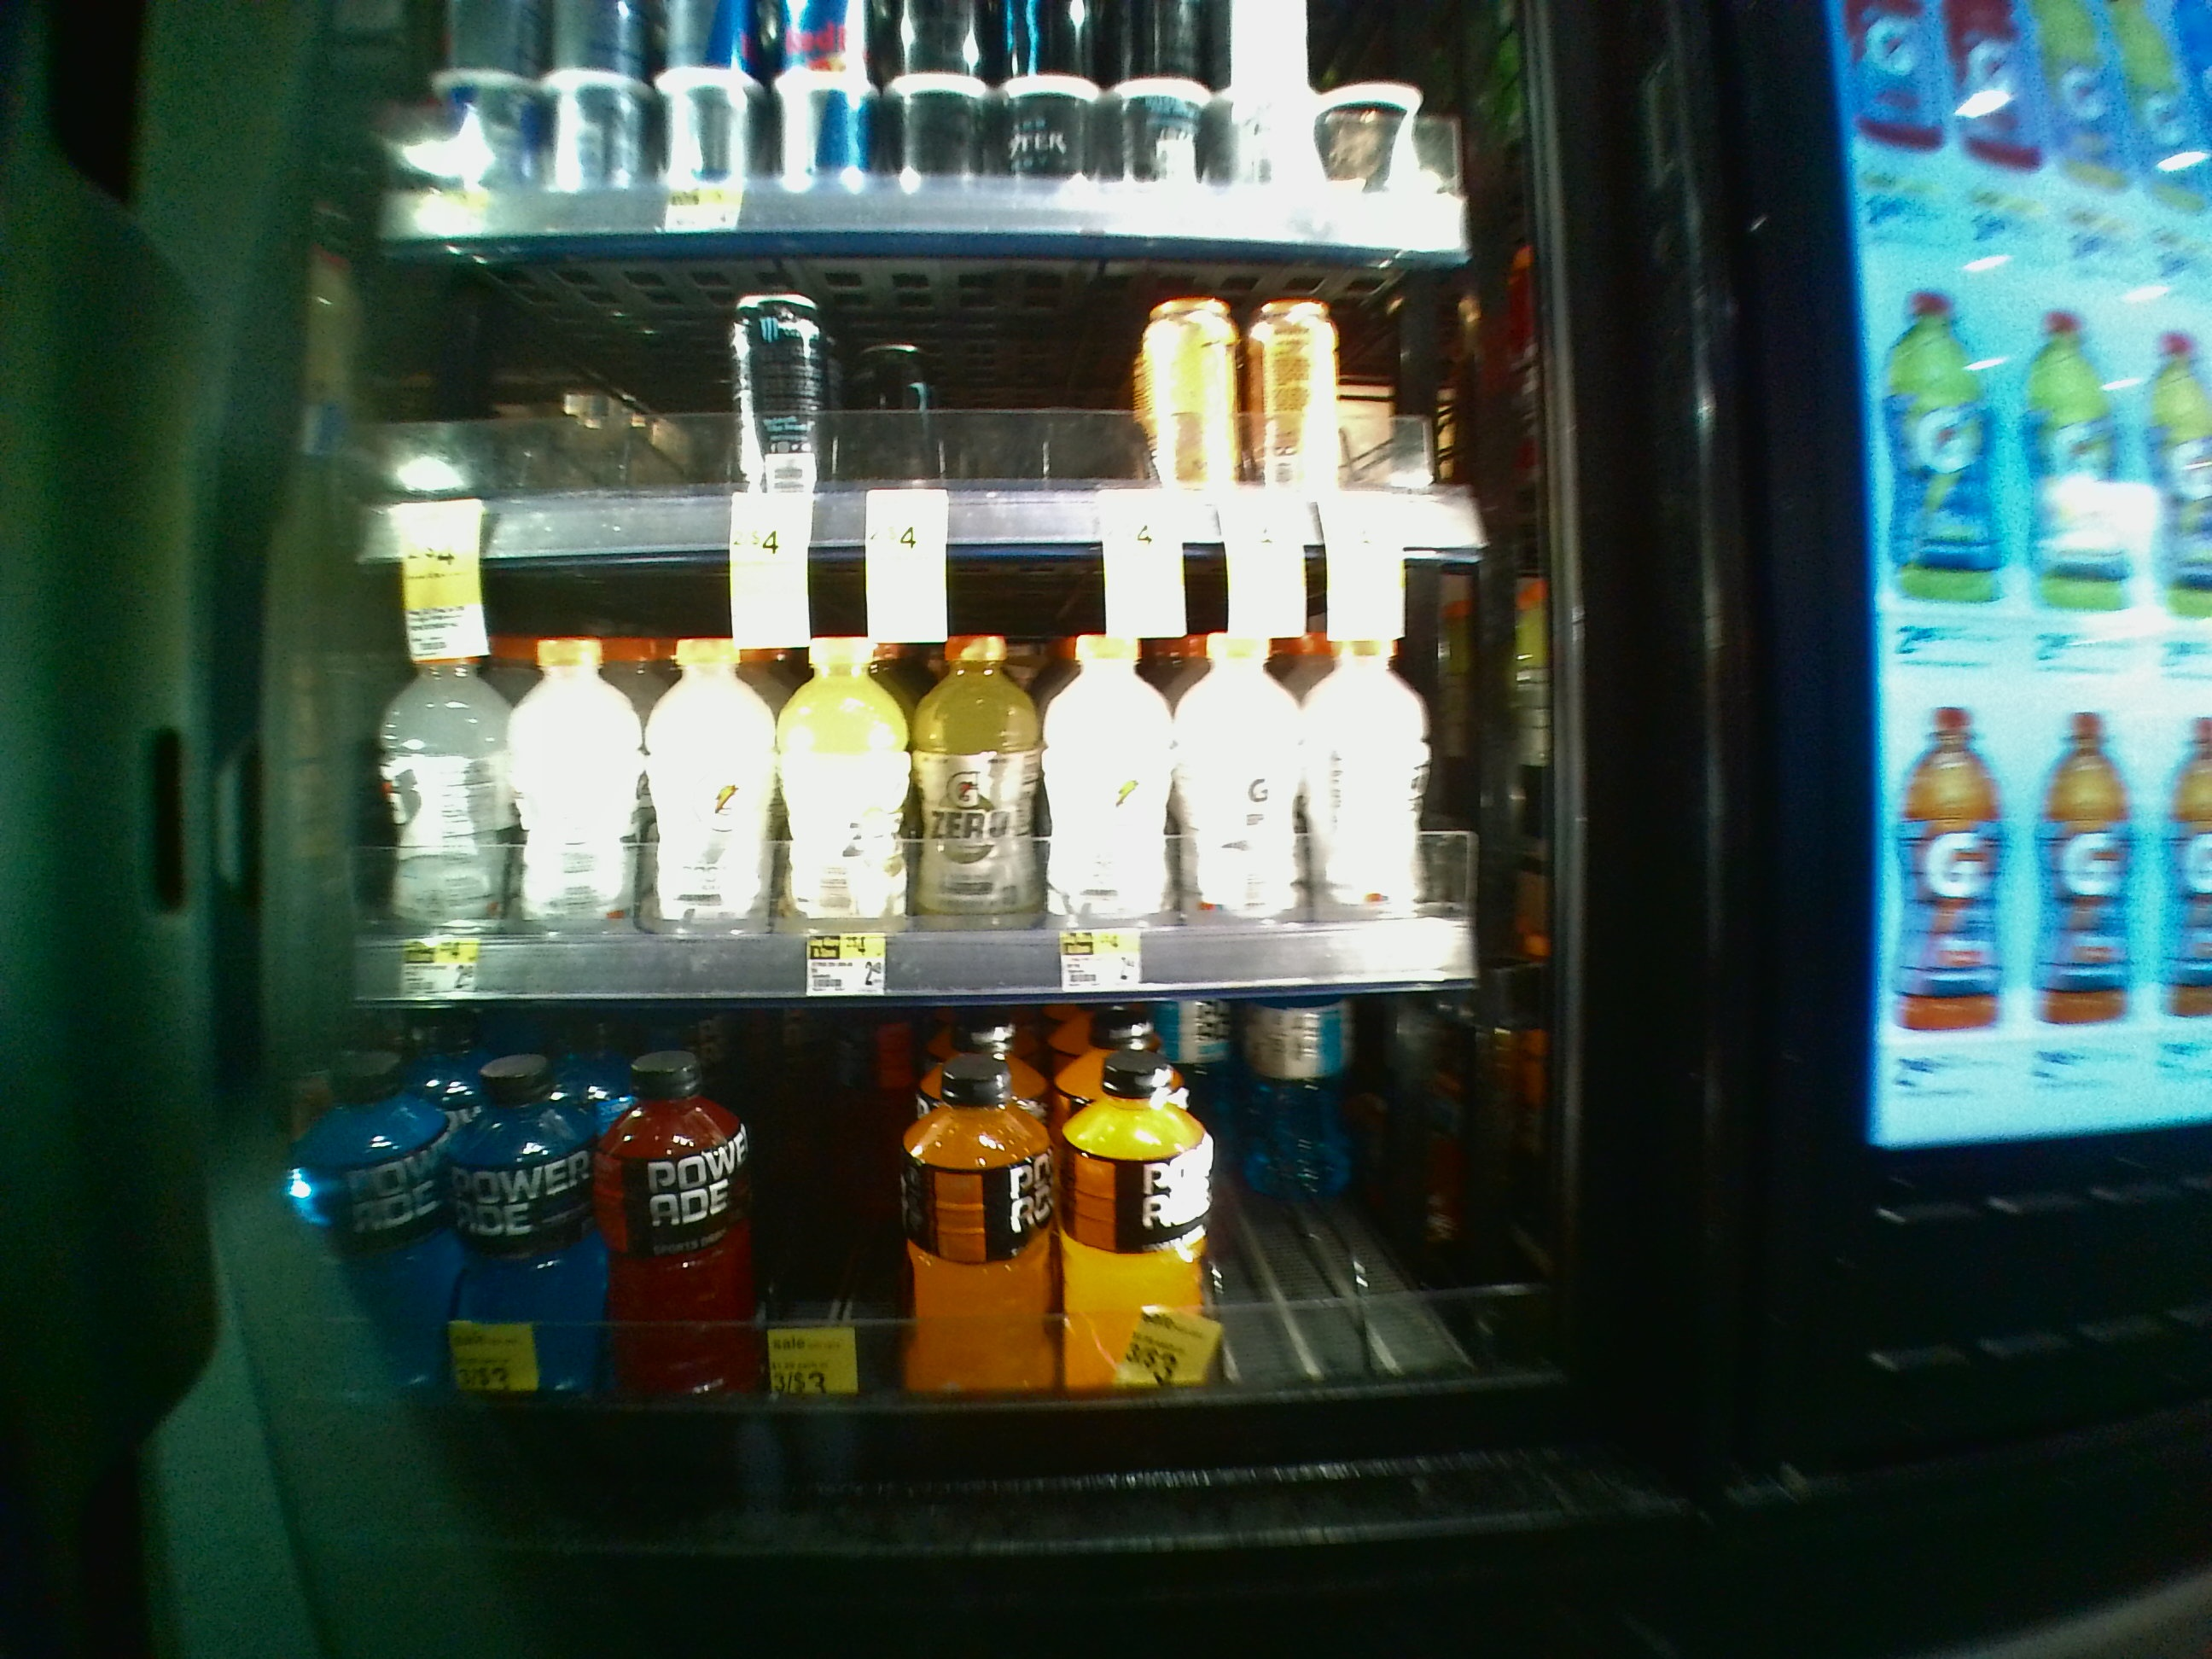shelf: (322, 538, 1573, 997), (289, 999, 1590, 1415), (336, 185, 1566, 563)
